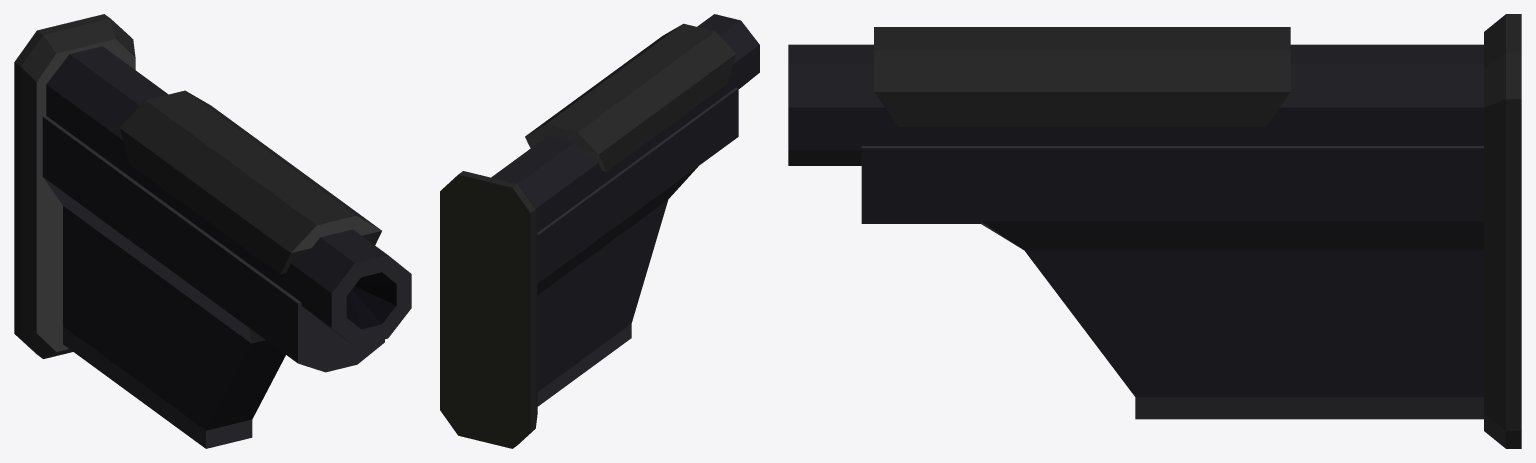
Rendered from MW1_Stock_Rod_03.fbx.
3 renders of one model, left to right at view 1: azimuth 30°, elevation 25°; view 2: azimuth 150°, elevation 25°; view 3: azimuth 270°, elevation 25°, orthographic. The views are drawn at different scales.
Visible parts, largest first — view 1: Stock_Rod_03; view 2: Stock_Rod_03; view 3: Stock_Rod_03.
Boxes of the visible parts, x1,y1,x2,y2 form: Stock_Rod_03: (14, 14, 411, 448); Stock_Rod_03: (440, 14, 759, 448); Stock_Rod_03: (788, 14, 1521, 448).
Bounding box in the file's own units: 4.51 × 12.42 × 20.9.
